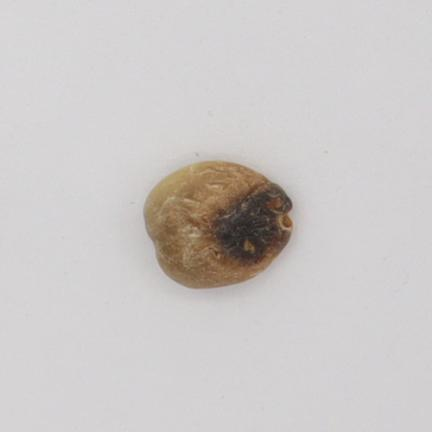partial-black: (144, 162, 292, 288)
